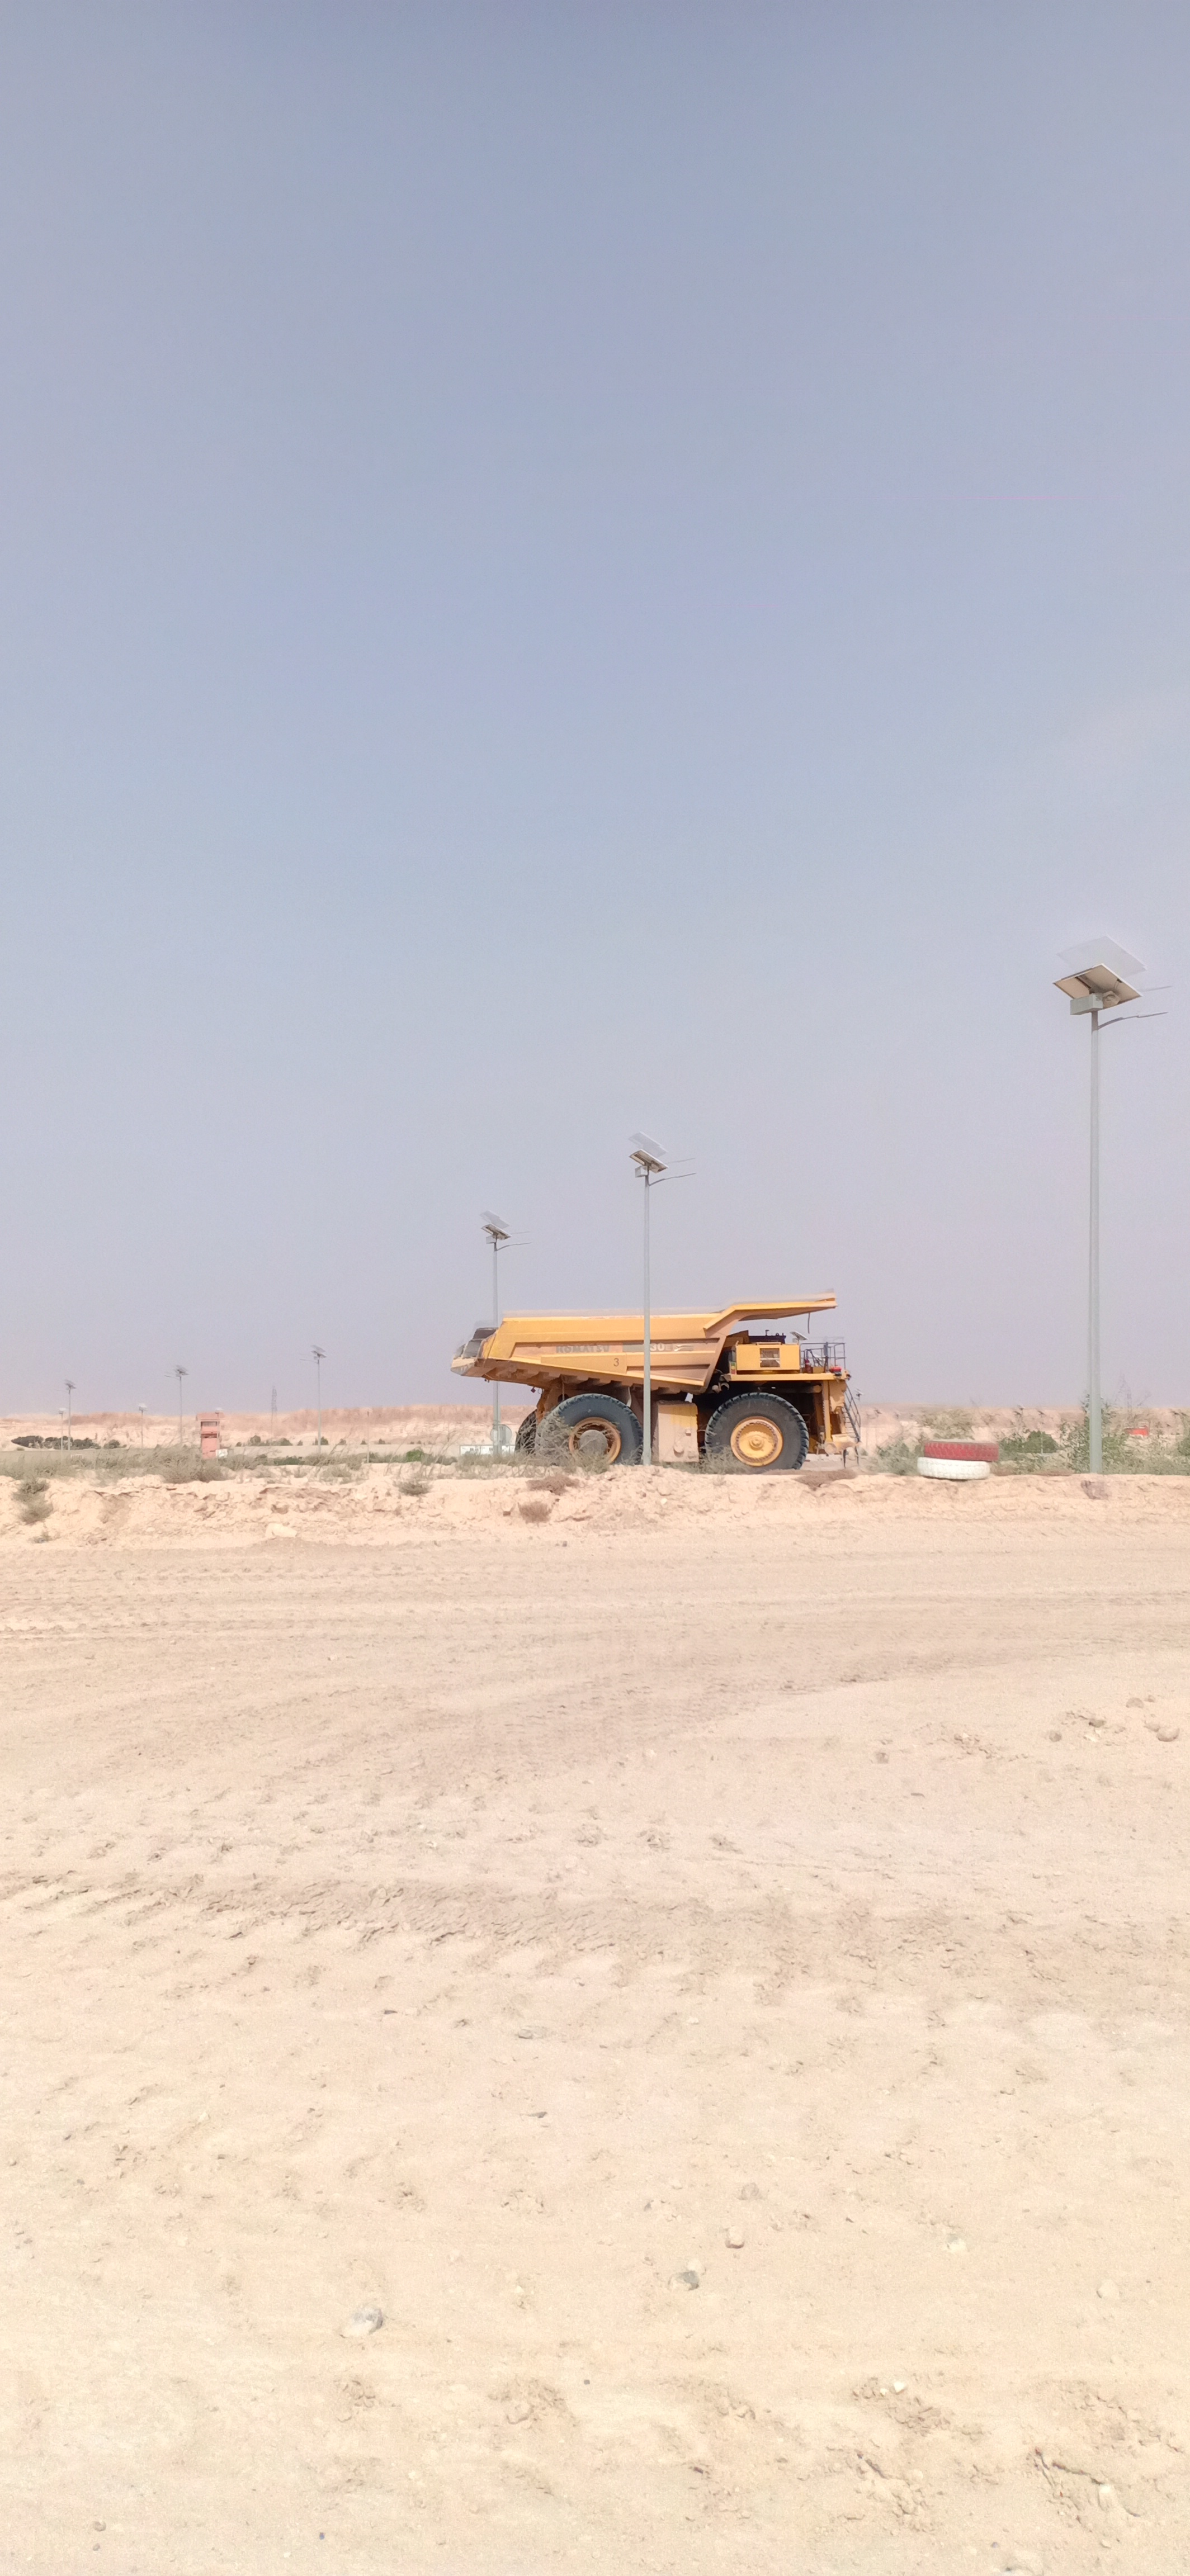camion: (454, 1270, 892, 1508)
